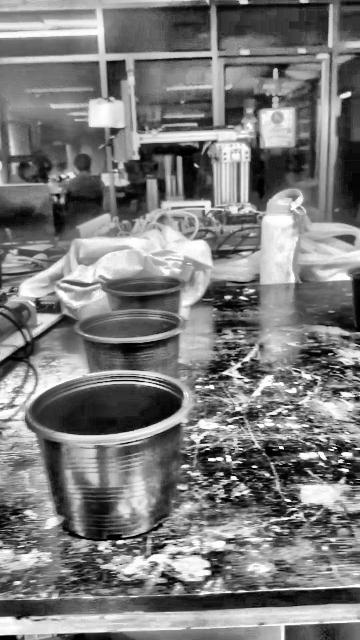pot: (24, 372, 191, 540), (75, 309, 184, 377), (104, 275, 184, 313), (348, 267, 359, 331)
